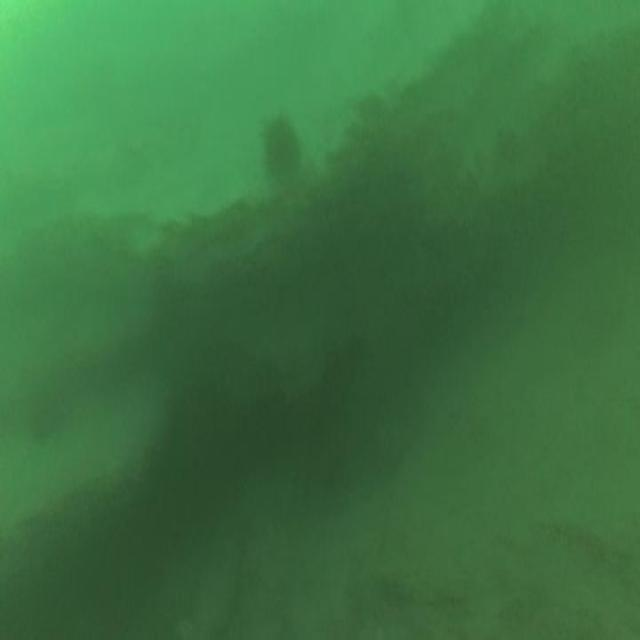echinus: (260, 109, 302, 190)
